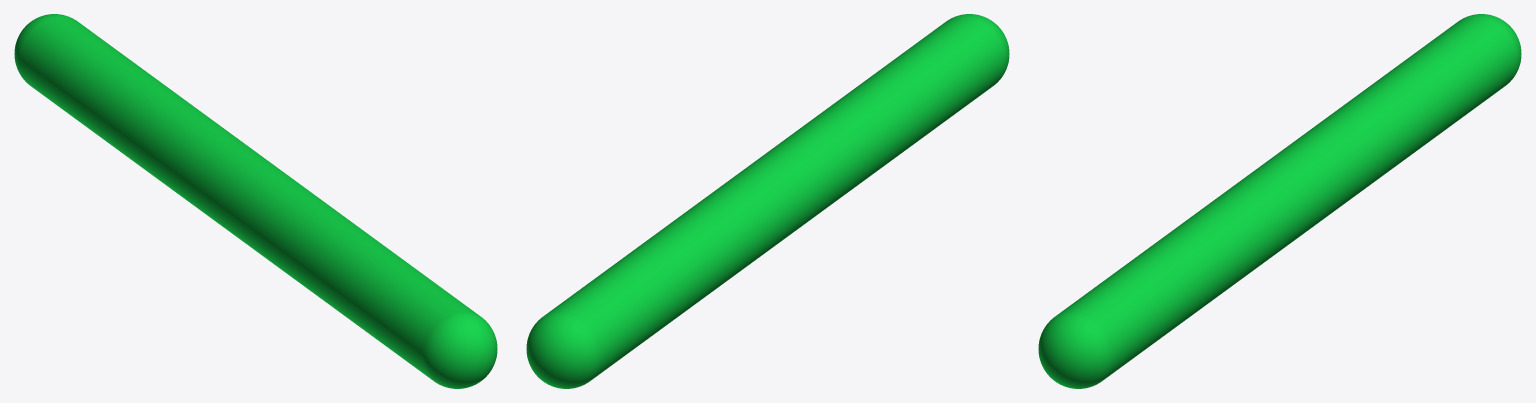
3 views of the same model, side by side, from view 1: azimuth 30°, elevation 25°; view 2: azimuth 150°, elevation 25°; view 3: azimuth 330°, elevation 25° (orthographic).
Visible parts, largest first — view 1: node_id5; view 2: node_id5; view 3: node_id5.
Part boxes in pixels (bbox=[...]): node_id5: bbox=[14, 14, 497, 388]; node_id5: bbox=[526, 14, 1009, 388]; node_id5: bbox=[1038, 14, 1521, 388].
Size of the model in its own units: 0.1657 by 0.1657 by 1.83.
1 material, 1 textured.
